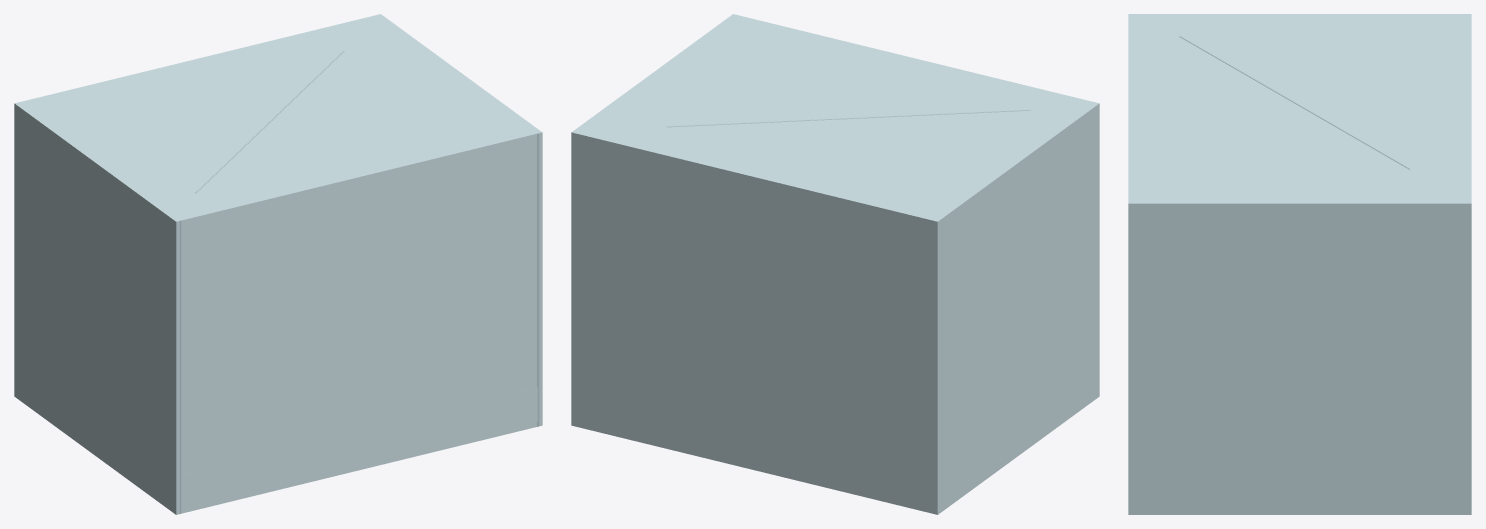
The model's file is paper.glb.
3 renders of one model, left to right at view 1: azimuth 30°, elevation 25°; view 2: azimuth 150°, elevation 25°; view 3: azimuth 270°, elevation 25°, orthographic. The views are drawn at different scales.
Parts seen in each view (by area): view 1: FilmLong_1, FilmTop, FilmEnd_-1, FilmWeldEdge_-1, FilmWeldEdge_1, FoldedSkirt_1, FoldedSkirt_-1; view 2: FilmLong_-1, FilmTop, FilmEnd_-1; view 3: FilmEnd_1, FilmTop.
Part boxes in pixels (x1=…): FilmLong_1: x1=176, y1=132, x2=542, y2=514; FilmTop: x1=15, y1=14, x2=542, y2=221; FilmEnd_-1: x1=14, y1=103, x2=176, y2=514; FilmWeldEdge_-1: x1=179, y1=221, x2=181, y2=513; FilmWeldEdge_1: x1=537, y1=133, x2=539, y2=426; FoldedSkirt_1: x1=521, y1=387, x2=538, y2=425; FoldedSkirt_-1: x1=180, y1=470, x2=197, y2=507; FilmLong_-1: x1=571, y1=132, x2=937, y2=514; FilmTop: x1=571, y1=14, x2=1098, y2=221; FilmEnd_-1: x1=937, y1=103, x2=1099, y2=514; FilmEnd_1: x1=1128, y1=203, x2=1471, y2=514; FilmTop: x1=1128, y1=14, x2=1471, y2=203.
Bounding box in the file's own units: 0.34 × 0.2606 × 0.2602.
